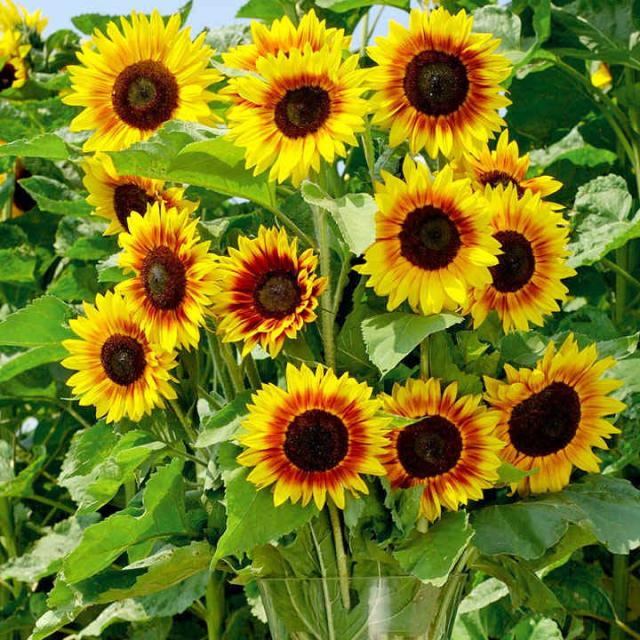sunflower: (460, 335, 628, 516), (325, 154, 507, 320), (229, 354, 402, 514), (345, 0, 515, 156), (345, 375, 516, 529), (56, 5, 218, 151), (446, 172, 582, 340), (209, 41, 366, 178), (50, 276, 189, 419), (100, 194, 225, 341), (199, 222, 332, 348)
